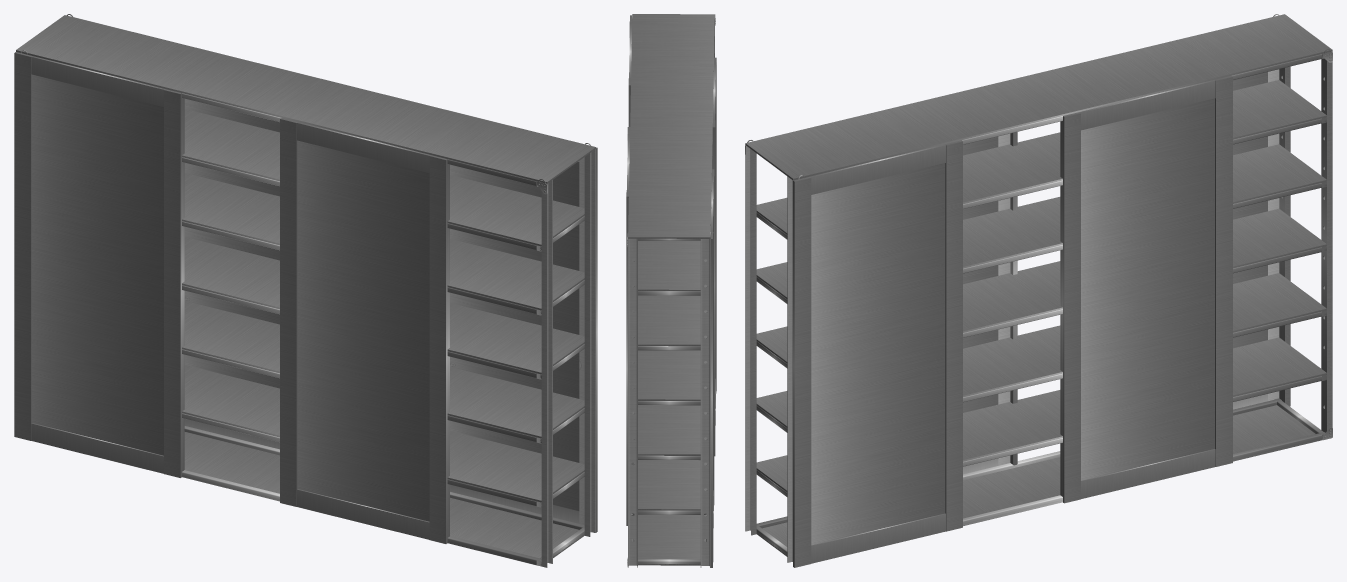
File: shelf.obj
3 views of the same model, side by side, from view 1: azimuth 30°, elevation 25°; view 2: azimuth 150°, elevation 25°; view 3: azimuth 270°, elevation 25° (orthographic). The views are drawn at different scales.
Parts seen in each view (by area): view 1: estante shelf1:Obj_000017, estante shelf1:Obj_000018, estante shelf1:Obj_000021, estante shelf1:Obj_000020, estante shelf1:Obj_000027, estante shelf1:Obj_000026, estante shelf1:Obj_000025, estante shelf1:Obj_000024, estante shelf1:Obj_000023, estante shelf1:Obj_000022, estante shelf1:Obj_000001, estante shelf1:Obj_000004 (+22 smaller); view 2: estante shelf1:Obj_000021, estante shelf1:Obj_000028, estante shelf1:Obj_000023, estante shelf1:Obj_000024, estante shelf1:Obj_000025, estante shelf1:Obj_000027, estante shelf1:Obj_000026, estante shelf1:Obj_000029, estante shelf1:Obj_000022, estante shelf1:Obj_000003, estante shelf1:Obj_000002, estante shelf1:Obj_000009 (+14 smaller); view 3: estante shelf1:Obj_000020, estante shelf1:Obj_000019, estante shelf1:Obj_000021, estante shelf1:Obj_000024, estante shelf1:Obj_000026, estante shelf1:Obj_000023, estante shelf1:Obj_000027, estante shelf1:Obj_000025, estante shelf1:Obj_000011, estante shelf1:Obj_000022, estante shelf1:Obj_000010, estante shelf1:Obj_000009 (+22 smaller).
Boxes of the visible parts, x1,y1,x2,y2 form: estante shelf1:Obj_000017: [297, 140, 429, 521]; estante shelf1:Obj_000018: [32, 74, 163, 455]; estante shelf1:Obj_000021: [16, 15, 595, 183]; estante shelf1:Obj_000020: [450, 162, 579, 510]; estante shelf1:Obj_000027: [182, 365, 584, 502]; estante shelf1:Obj_000026: [182, 301, 584, 438]; estante shelf1:Obj_000025: [182, 237, 584, 374]; estante shelf1:Obj_000024: [182, 173, 584, 310]; estante shelf1:Obj_000023: [182, 109, 584, 246]; estante shelf1:Obj_000022: [182, 432, 584, 565]; estante shelf1:Obj_000001: [429, 155, 447, 543]; estante shelf1:Obj_000004: [164, 89, 181, 477]; estante shelf1:Obj_000021: [628, 14, 714, 238]; estante shelf1:Obj_000028: [700, 239, 710, 567]; estante shelf1:Obj_000023: [631, 240, 707, 291]; estante shelf1:Obj_000024: [631, 295, 707, 346]; estante shelf1:Obj_000025: [631, 350, 707, 400]; estante shelf1:Obj_000027: [631, 460, 707, 510]; estante shelf1:Obj_000026: [631, 405, 707, 455]; estante shelf1:Obj_000029: [628, 238, 637, 567]; estante shelf1:Obj_000022: [633, 514, 706, 565]; estante shelf1:Obj_000003: [710, 232, 713, 567]; estante shelf1:Obj_000002: [712, 120, 715, 456]; estante shelf1:Obj_000009: [626, 190, 628, 525]; estante shelf1:Obj_000020: [811, 163, 945, 545]; estante shelf1:Obj_000019: [1081, 98, 1214, 480]; estante shelf1:Obj_000021: [745, 14, 1332, 180]; estante shelf1:Obj_000024: [756, 144, 1326, 298]; estante shelf1:Obj_000026: [756, 273, 1326, 427]; estante shelf1:Obj_000023: [756, 80, 1326, 234]; estante shelf1:Obj_000027: [756, 337, 1326, 492]; estante shelf1:Obj_000025: [756, 208, 1326, 363]; estante shelf1:Obj_000011: [793, 176, 811, 567]; estante shelf1:Obj_000022: [756, 405, 1322, 556]; estante shelf1:Obj_000010: [1063, 112, 1080, 503]; estante shelf1:Obj_000009: [1215, 75, 1232, 466].
Size of the model in its own units: 2.39 by 2.6 by 3.55.
Materials: 1 (1 with a texture image).
